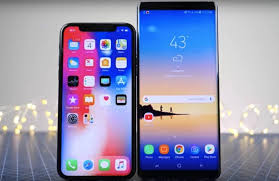iphone: (136, 1, 221, 181), (55, 22, 138, 181)
iphone10: (136, 1, 221, 181), (55, 21, 138, 180)
